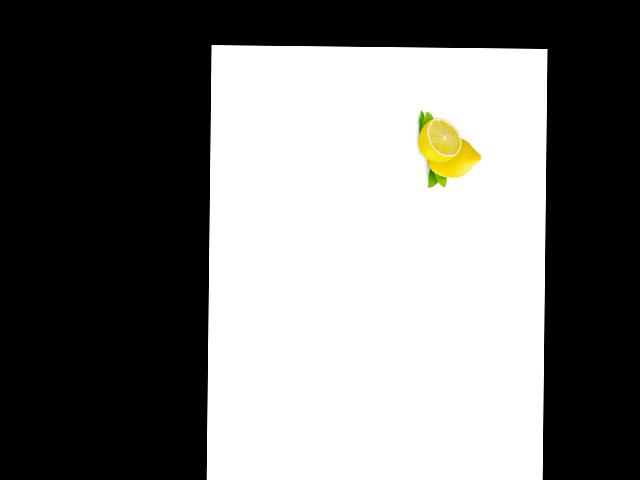lemon: (422, 135, 482, 183)
